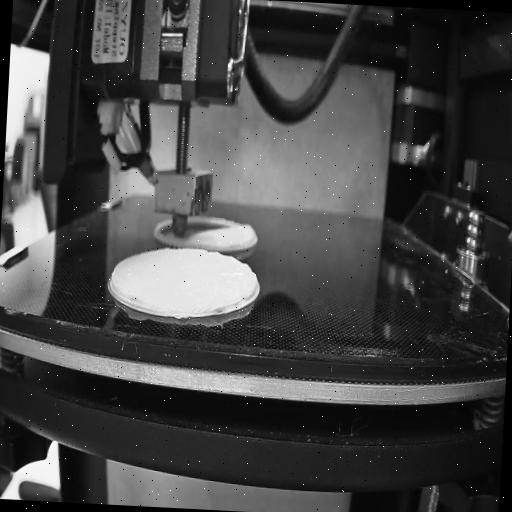over_extrusion: (238, 260, 260, 306)
